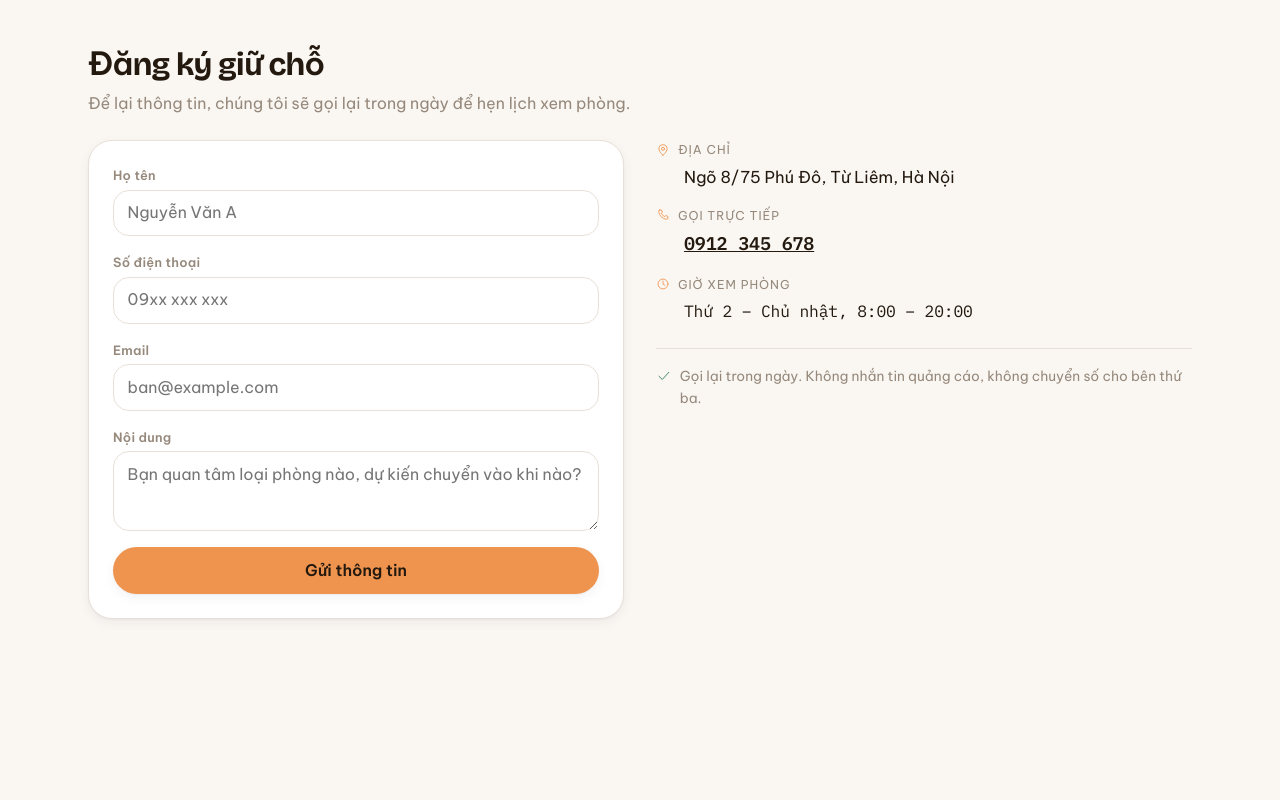
Test case: ContactForm › submits the enquiry and shows the confirmation the API returned
In the field labelled "Họ tên": (356, 213) x1=113 y1=190 x2=599 y2=236, type "Khach"
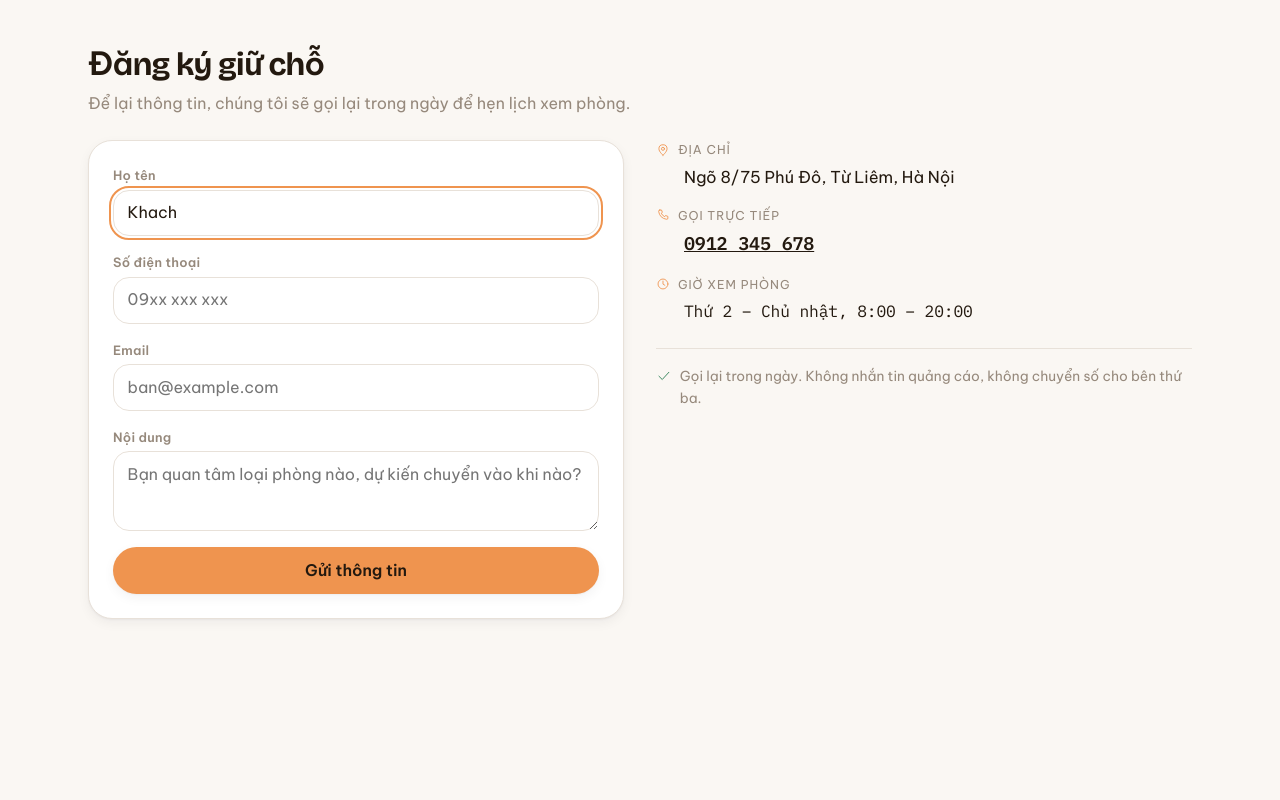
In the field labelled "Số điện thoại": (356, 300) x1=113 y1=277 x2=599 y2=324, type "0900000000"
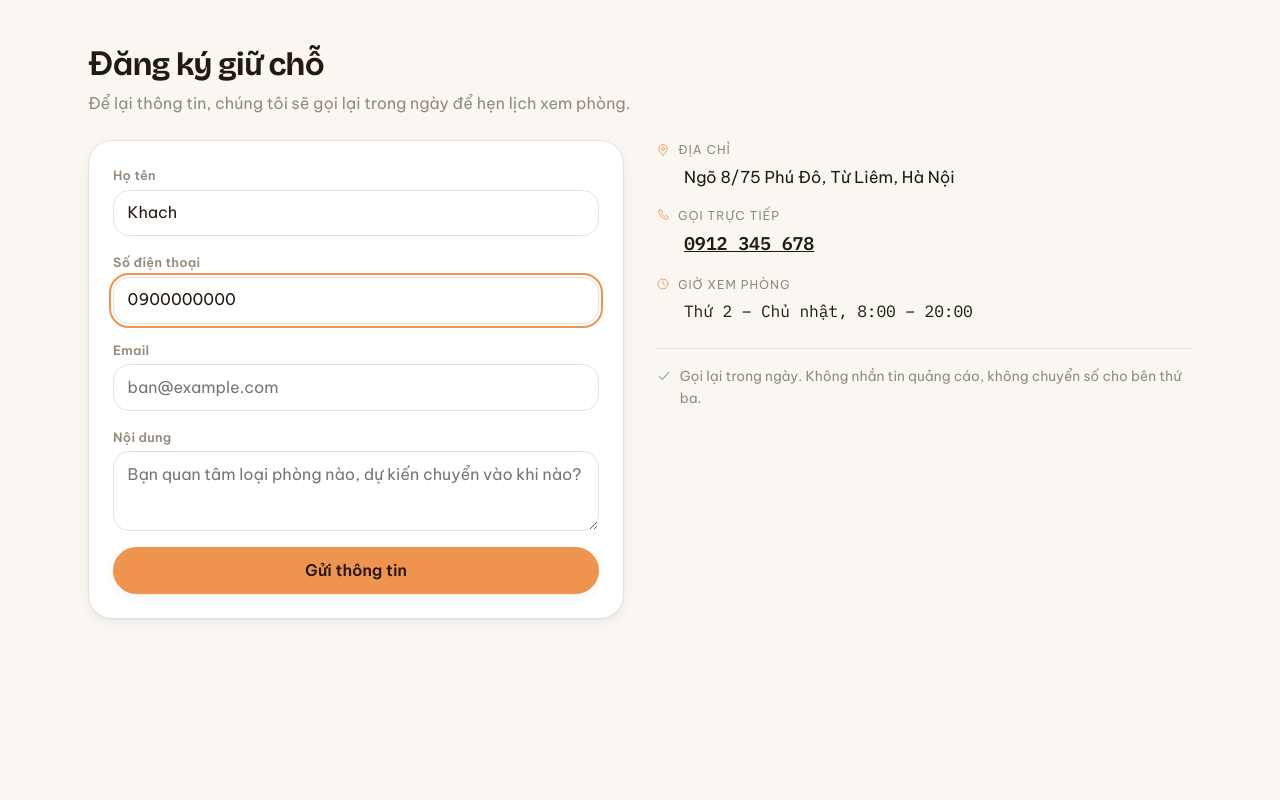
Click the button "Gửi thông tin": (356, 571) x1=113 y1=547 x2=599 y2=594
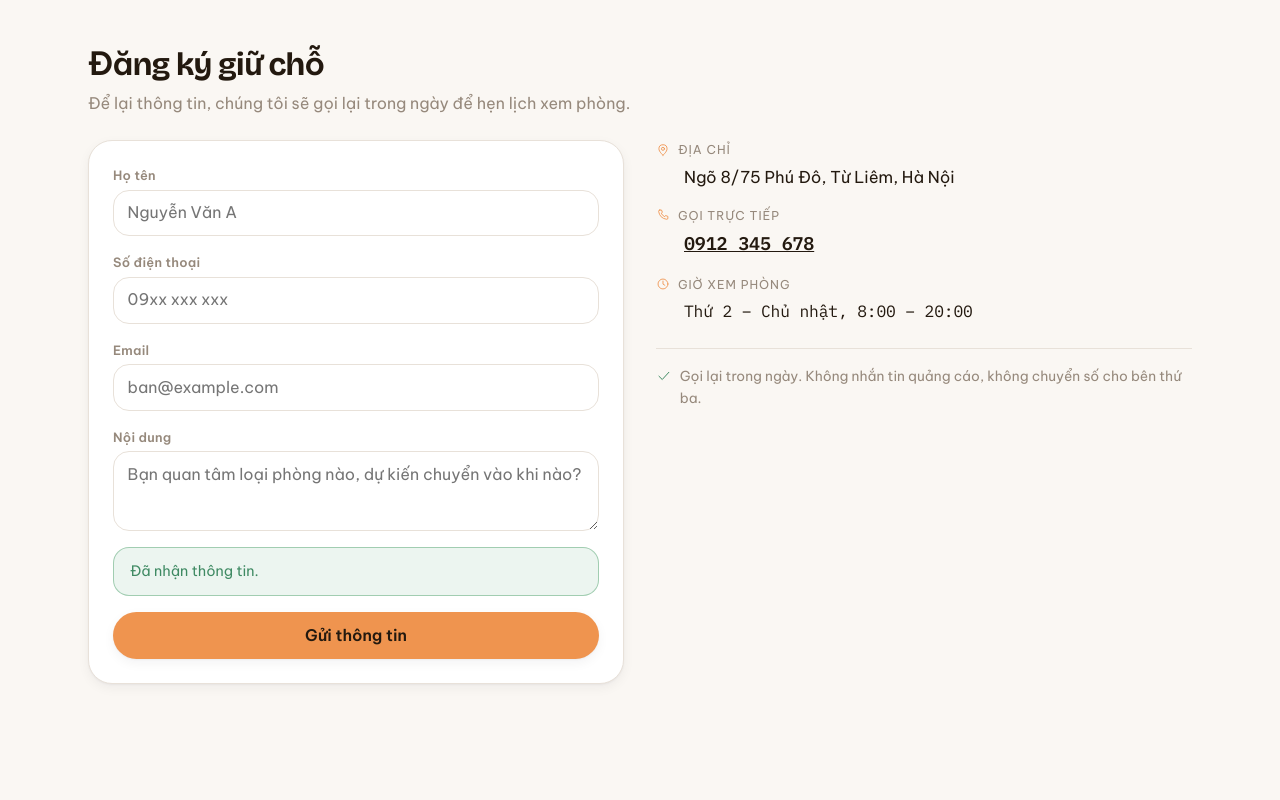
Expected: the text "Đã nhận thông tin." is shown, x1=113 y1=547 x2=599 y2=596
